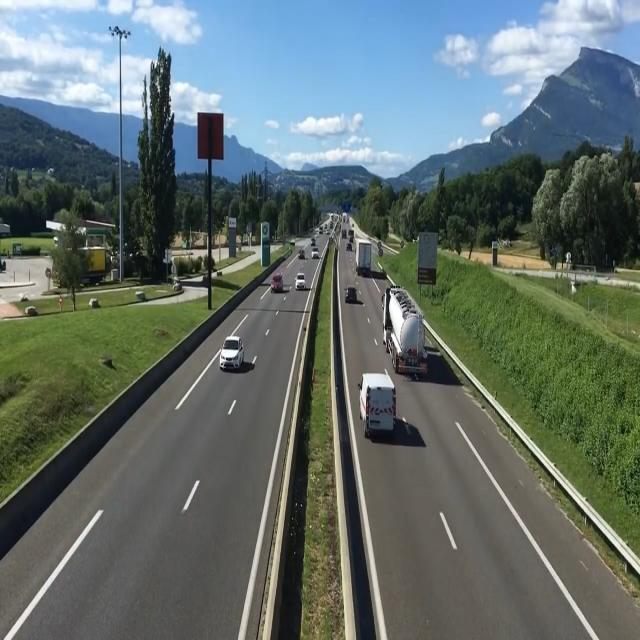car: (359, 366, 402, 449), (218, 333, 250, 374), (271, 266, 288, 294), (342, 285, 361, 307), (296, 267, 310, 294)
truck: (383, 281, 429, 364), (354, 235, 374, 278)
